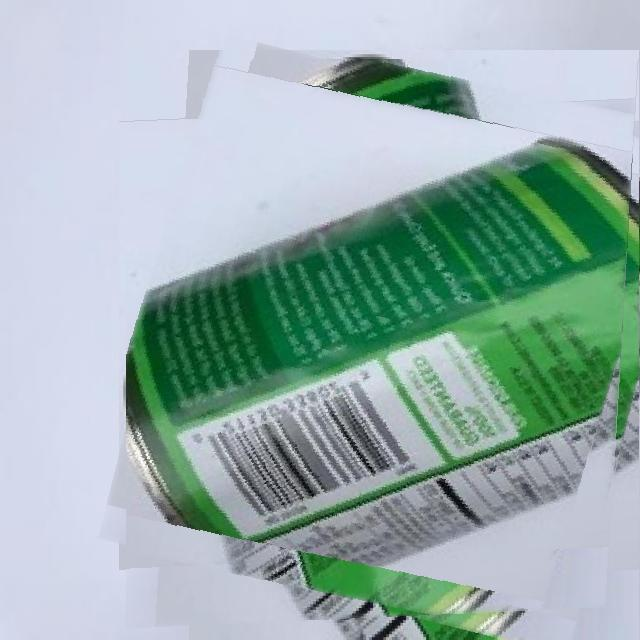recyclable: (126, 59, 640, 630)
